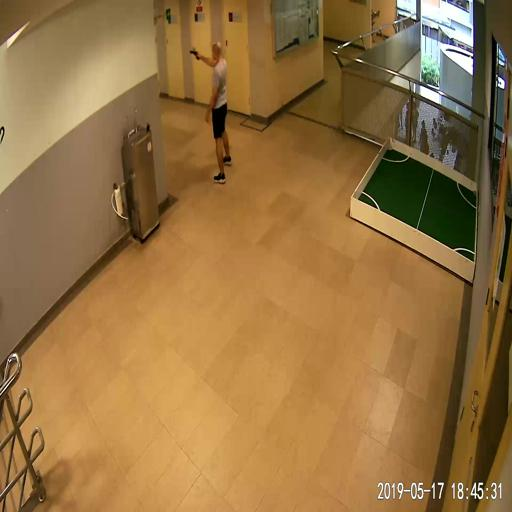pistol: (189, 48, 199, 61)
